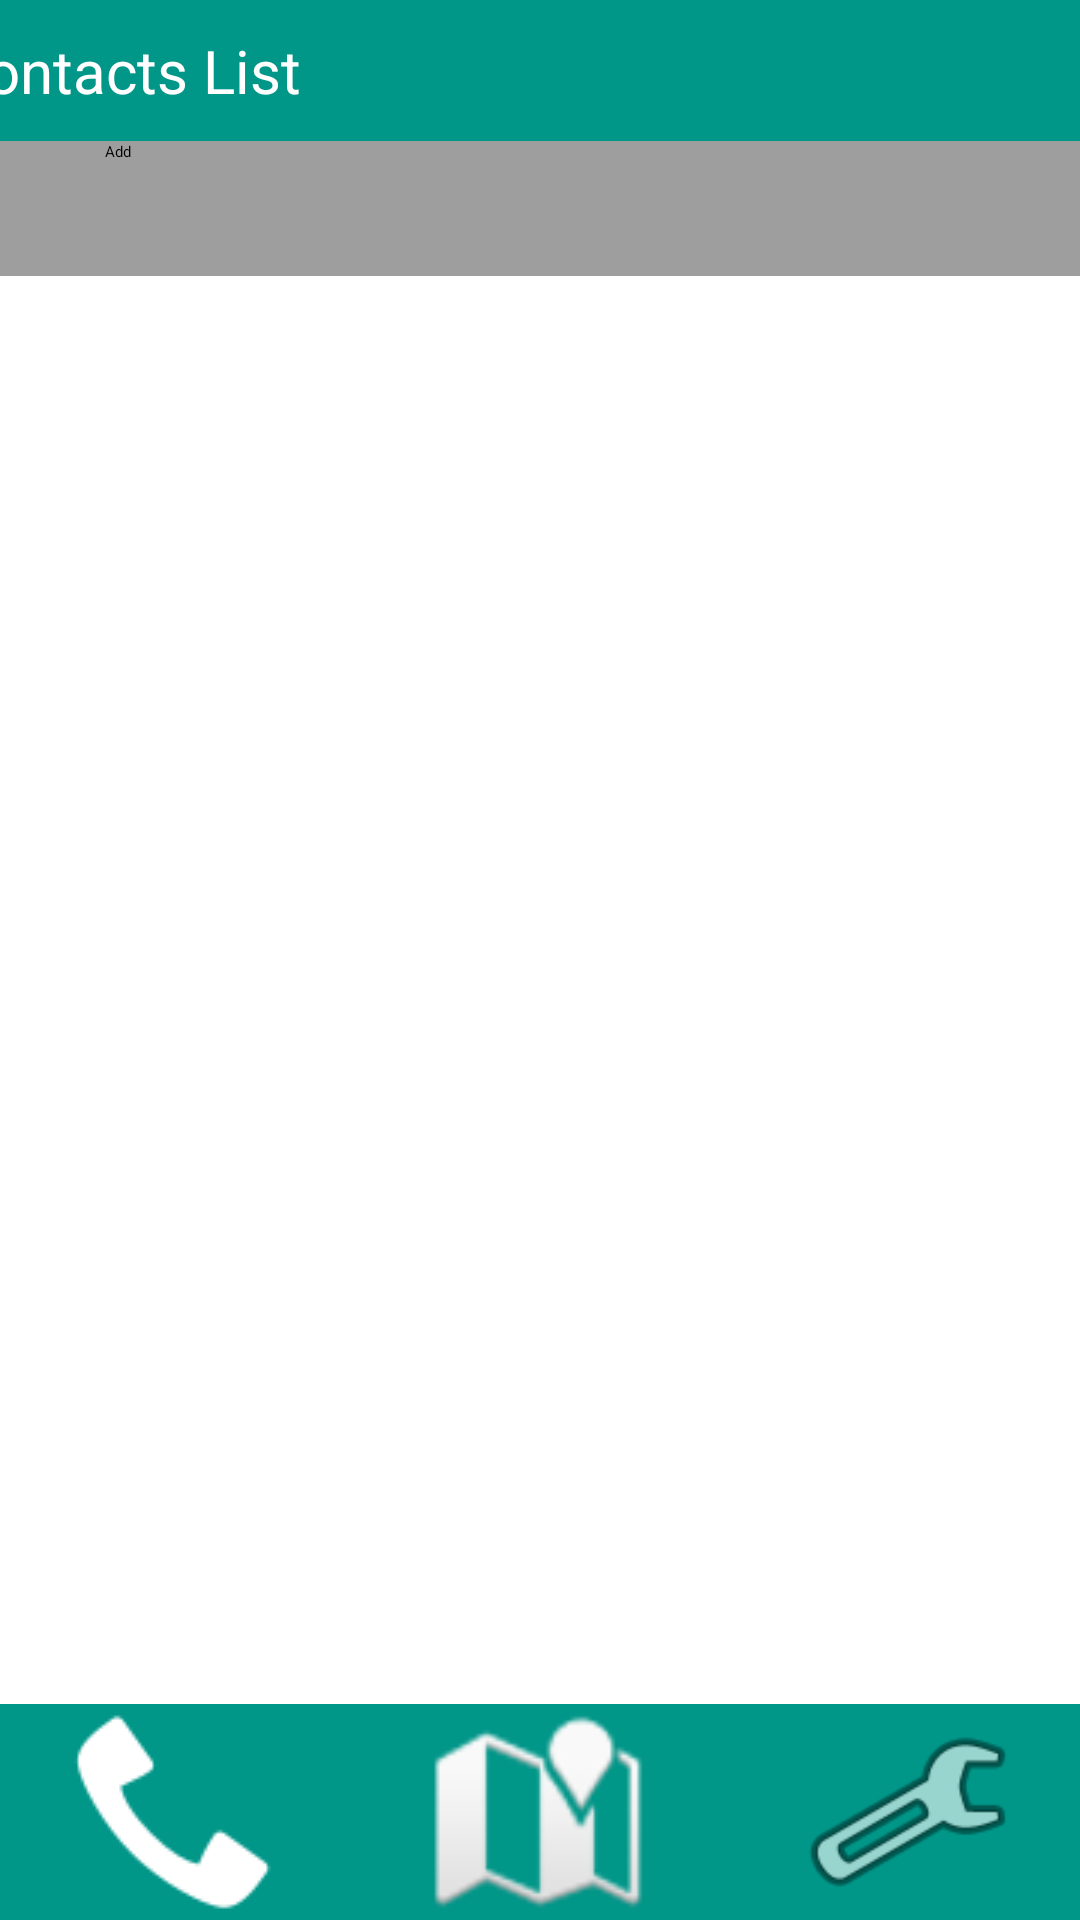

Icons on this 1080 x 1920 Android screen, each with its box as bbox=[x1, y1, x2, y2]:
Contact List Button: bbox=[77, 1715, 270, 1909]
Map Button: bbox=[434, 1716, 642, 1907]
Settings Button: bbox=[811, 1738, 1005, 1886]
